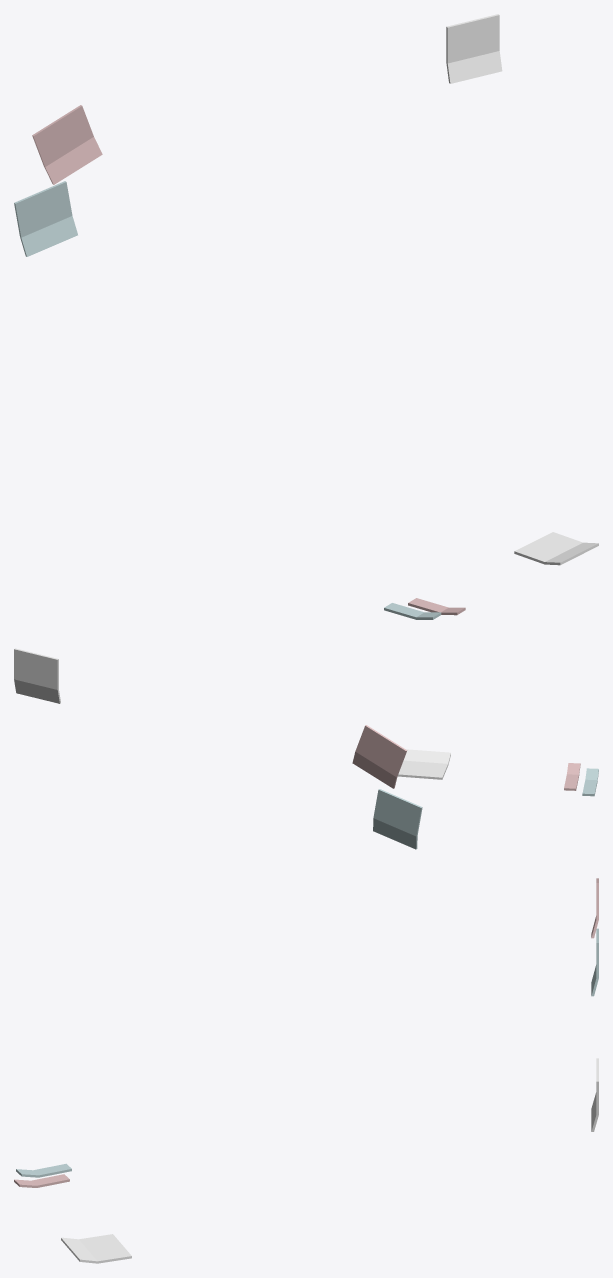
File: Post-Its.FBX
3 views of the same model, one above another, from view 1: azimuth 30°, elevation 25°; view 2: azimuth 150°, elevation 25°; view 3: azimuth 270°, elevation 25° (orthographic). The views are drawn at different scales.
Visible parts, largest first — view 1: Box015, Box016, Box014, Box021; view 2: Box016, Box014, Box015, Box021, Box022, Box023; view 3: Box021.
Part boxes in pixels (x1,y1,x2,y2): Box015: (32,105,102,184); Box016: (14,181,77,256); Box014: (446,14,502,83); Box021: (514,532,598,565); Box016: (373,789,422,849); Box014: (14,648,60,703); Box015: (352,725,407,788); Box021: (397,749,450,779); Box022: (582,768,598,796); Box023: (564,763,580,790); Box021: (61,1234,131,1263).
Bounding box in the file's own units: 280 × 165 × 316.
